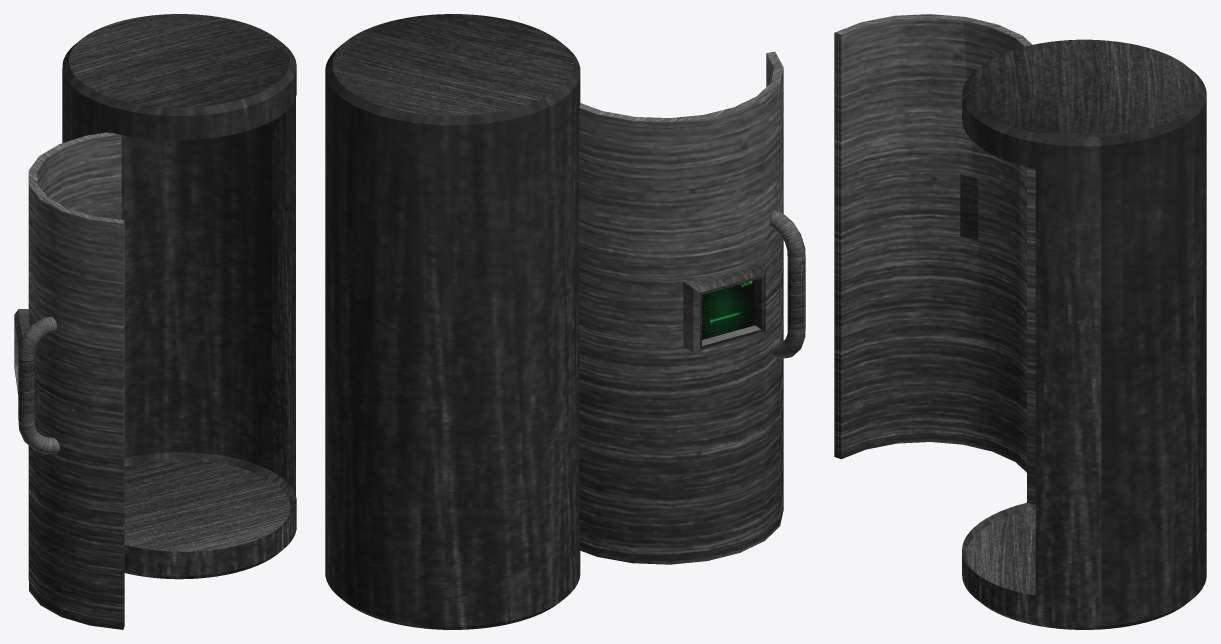
File: Pod_Open.fbx
3 views of the same model, side by side, from view 1: azimuth 30°, elevation 25°; view 2: azimuth 150°, elevation 25°; view 3: azimuth 270°, elevation 25° (orthographic). The views are drawn at different scales.
Visible parts, largest first — view 1: pSphere2; view 2: pSphere2; view 3: pSphere2.
Boxes of the visible parts, <box> form: pSphere2: <box>14,14,296,629</box>; pSphere2: <box>325,14,805,629</box>; pSphere2: <box>834,14,1206,629</box>.
Bounding box in the file's own units: 8.93 × 11.75 × 8.05.
